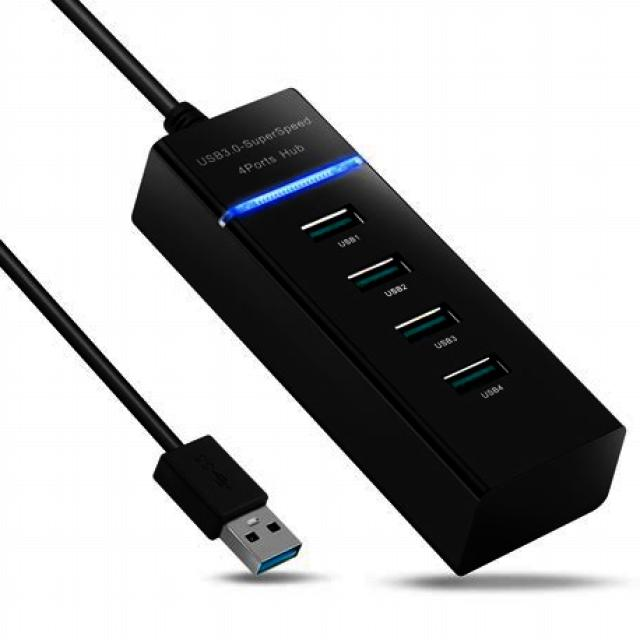usb port: (391, 306, 461, 335), (339, 256, 411, 284), (298, 204, 363, 232), (440, 359, 512, 383)
